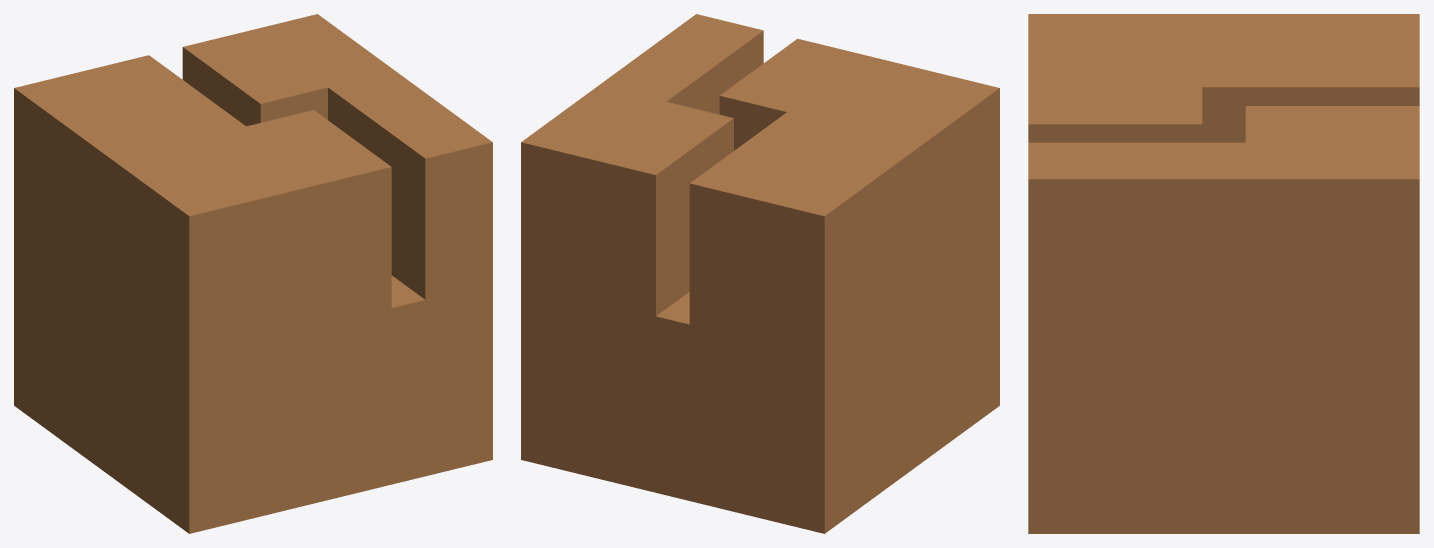
Rendered from Thin_Connect_S(R)_to_M_Model.fbx.
3 renders of one model, left to right at view 1: azimuth 30°, elevation 25°; view 2: azimuth 150°, elevation 25°; view 3: azimuth 270°, elevation 25°, orthographic. The views are drawn at different scales.
Visible parts, largest first — view 1: Cube; view 2: Cube; view 3: Cube.
Boxes of the visible parts, bbox=[...] form: Cube: bbox=[14, 14, 492, 533]; Cube: bbox=[521, 14, 999, 533]; Cube: bbox=[1028, 14, 1419, 533].
Bounding box in the file's own units: 100 × 100 × 100.
